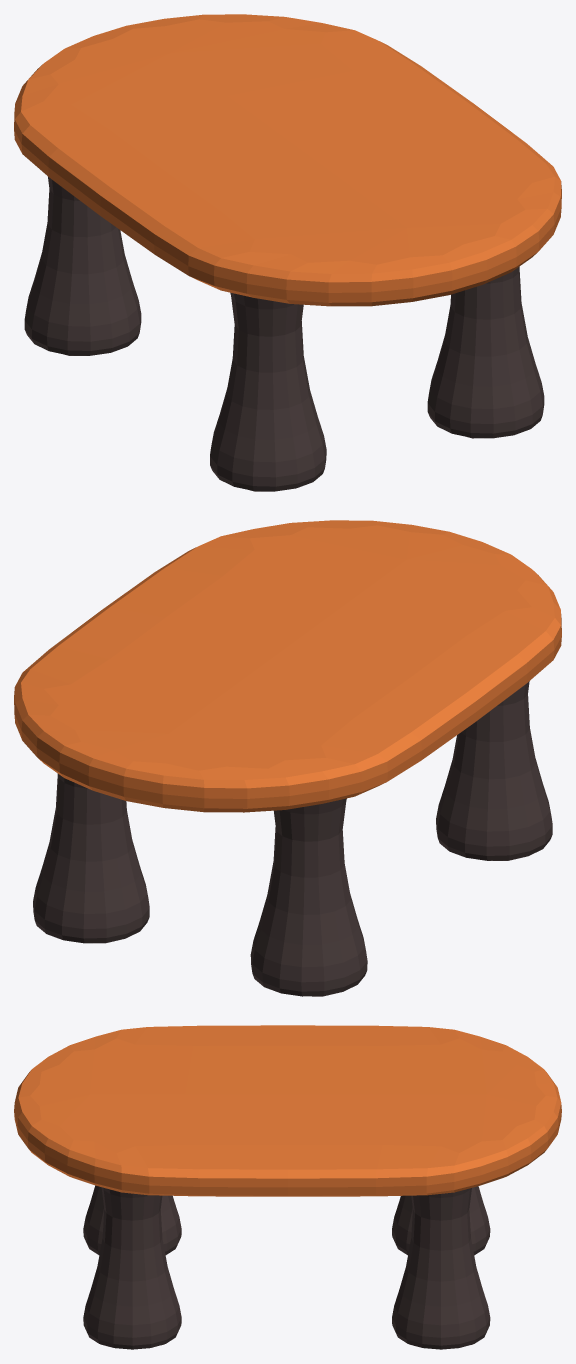
Rendered from SM_LowTable.fbx.
3 views of the same model, one above another, from view 1: azimuth 30°, elevation 25°; view 2: azimuth 150°, elevation 25°; view 3: azimuth 270°, elevation 25° (orthographic). The views are drawn at different scales.
Parts seen in each view (by area): view 1: Circle, Cube.008; view 2: Circle, Cube.008; view 3: Circle, Cube.008.
Boxes of the visible parts, box(x1,y1,x2,y2) form: Circle: box(14, 14, 561, 306); Cube.008: box(24, 177, 544, 491); Circle: box(14, 520, 561, 812); Cube.008: box(33, 681, 552, 996); Circle: box(14, 1025, 561, 1196); Cube.008: box(83, 1185, 490, 1349).
Bounding box in the file's own units: 193 × 116 × 293.
